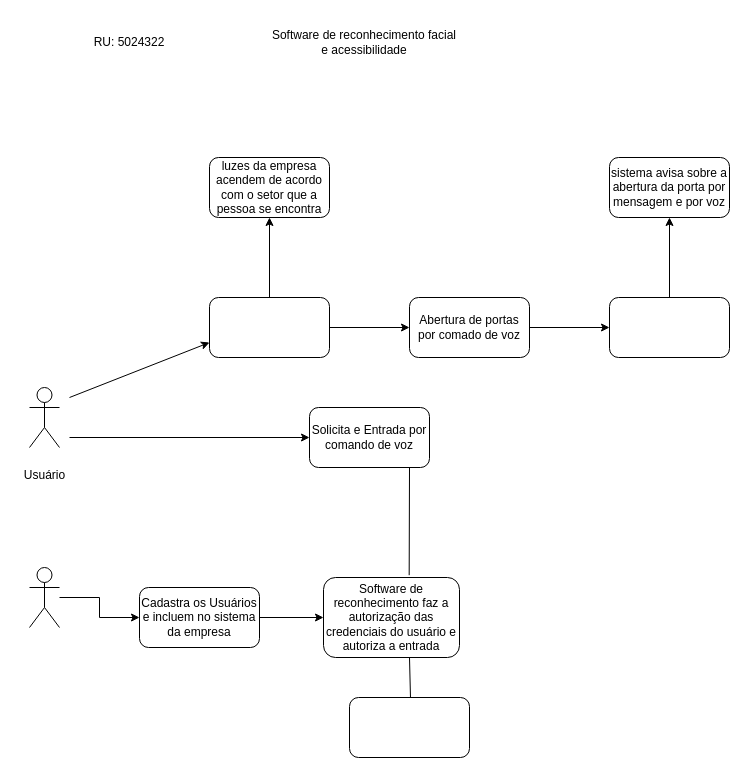
Image size: 747x775. Some labels were removed from this diagram. The shapes that lost their labels are listed below. From the top down, each one's centre as x and y in pixels, then its label:
At [269,327]: "Anda pelas instalações".
At [669,327]: "sistema identifica o usuário e se autorizado abre a porta".
At [44,597]: "Secretária".
At [409,727]: "Envia um aviso caso exista um novo usuário".
